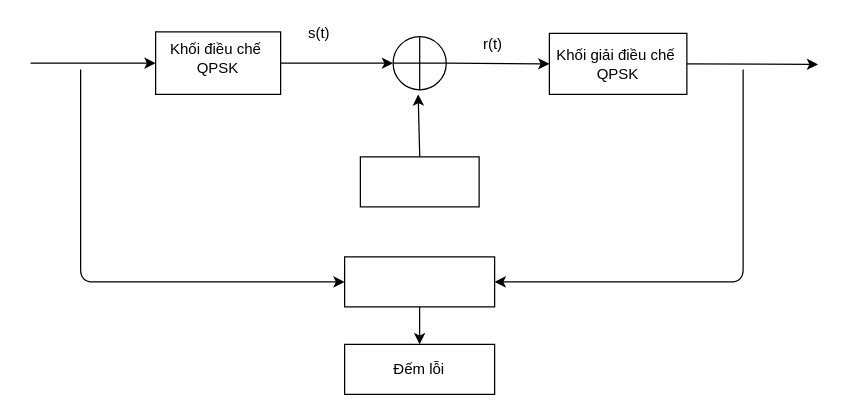
Image size: 850x418. Some labels were removed from this diagram. Each missing label, with the centre of its shape:
"AWGN" belongs at [419,181].
"So sánh" belongs at [419,281].
